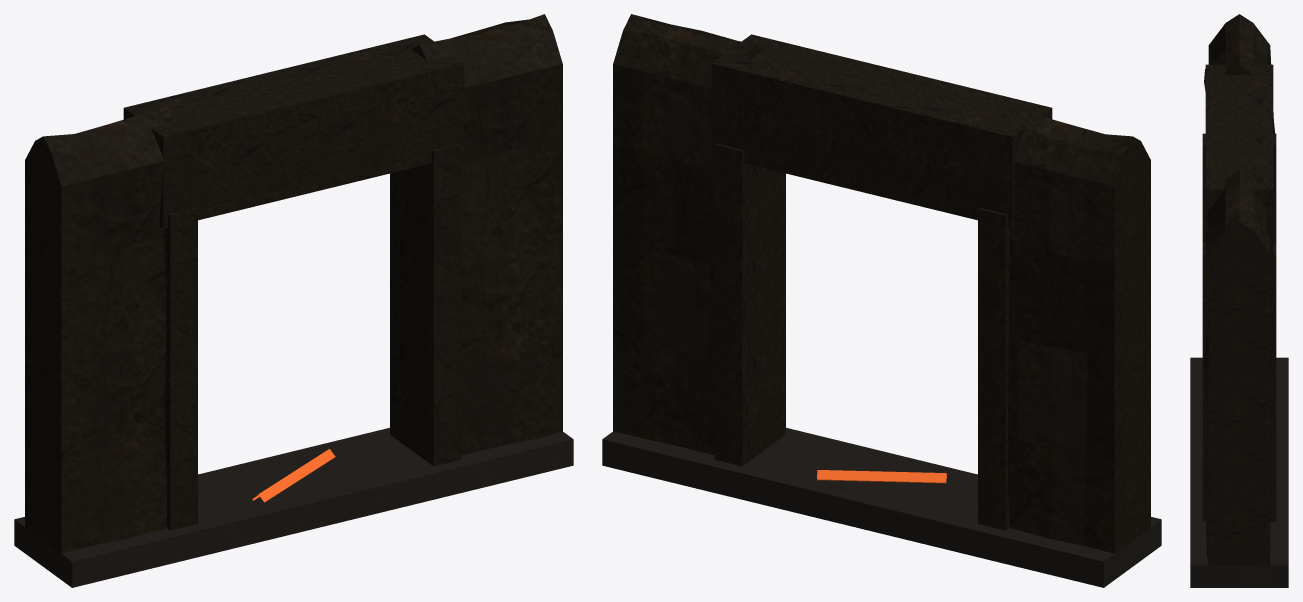
Rendered from cave_gate_01_lava.glb.
The picture shows the model from 3 angles, left to right: view 1: azimuth 30°, elevation 25°; view 2: azimuth 150°, elevation 25°; view 3: azimuth 270°, elevation 25°; orthographic projection. The views are drawn at different scales.
Visible parts, largest first — view 1: cave_gate_01_lava; view 2: cave_gate_01_lava; view 3: cave_gate_01_lava.
Boxes of the visible parts, left/top/right/bottom form: cave_gate_01_lava: left=14, top=14, right=573, bottom=587; cave_gate_01_lava: left=602, top=14, right=1161, bottom=587; cave_gate_01_lava: left=1190, top=14, right=1288, bottom=587.
Bounding box in the file's own units: 4 × 3.28 × 0.8.
Materials: 3 (3 with a texture image).
